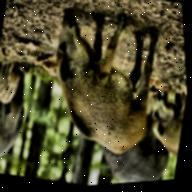boar: (26, 0, 179, 163)
